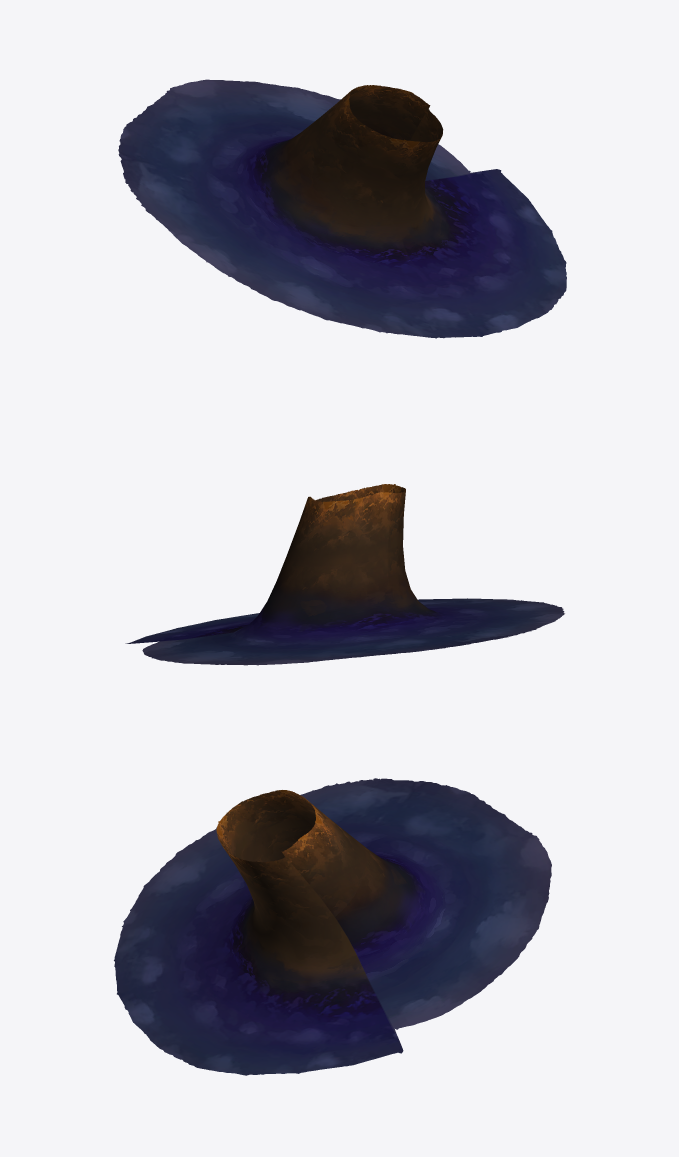
The model's file is Burst_BackGround.fbx.
3 views of the same model, one above another, from view 1: azimuth 30°, elevation 25°; view 2: azimuth 150°, elevation 25°; view 3: azimuth 270°, elevation 25° (orthographic). The views are drawn at different scales.
Visible parts, largest first — view 1: 00_CloudMeshBack; view 2: 00_CloudMeshBack; view 3: 00_CloudMeshBack.
Part boxes in pixels (<box>): 00_CloudMeshBack: <box>118,79,566,338</box>; 00_CloudMeshBack: <box>125,484,564,665</box>; 00_CloudMeshBack: <box>114,778,551,1075</box>.
Size of the model in its own units: 922 by 417 by 922.
Materials: 1 (1 with a texture image).
